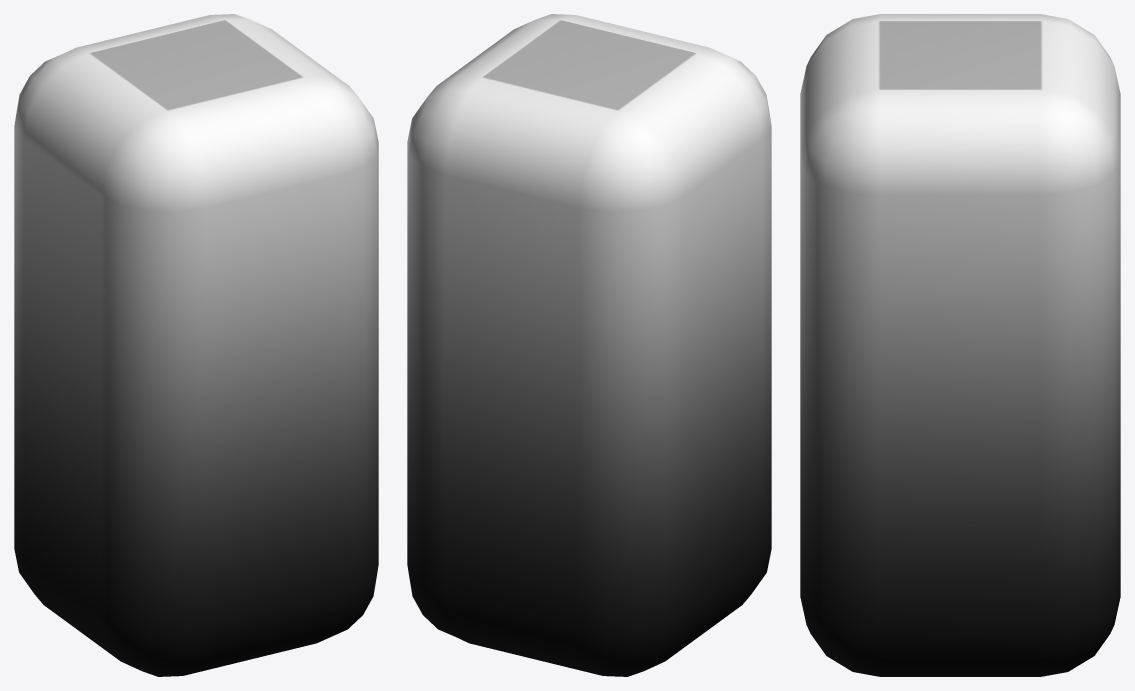
File: WallPL_2x2_V1.fbx
The picture shows the model from 3 angles, left to right: view 1: azimuth 30°, elevation 25°; view 2: azimuth 150°, elevation 25°; view 3: azimuth 270°, elevation 25°; orthographic projection. The views are drawn at different scales.
Visible parts, largest first — view 1: WallPL_2x2_V1; view 2: WallPL_2x2_V1; view 3: WallPL_2x2_V1.
Boxes of the visible parts, bbox=[...] form: WallPL_2x2_V1: bbox=[14, 14, 378, 676]; WallPL_2x2_V1: bbox=[407, 14, 771, 676]; WallPL_2x2_V1: bbox=[800, 14, 1120, 676].
Bounding box in the file's own units: 128 × 256 × 128.
